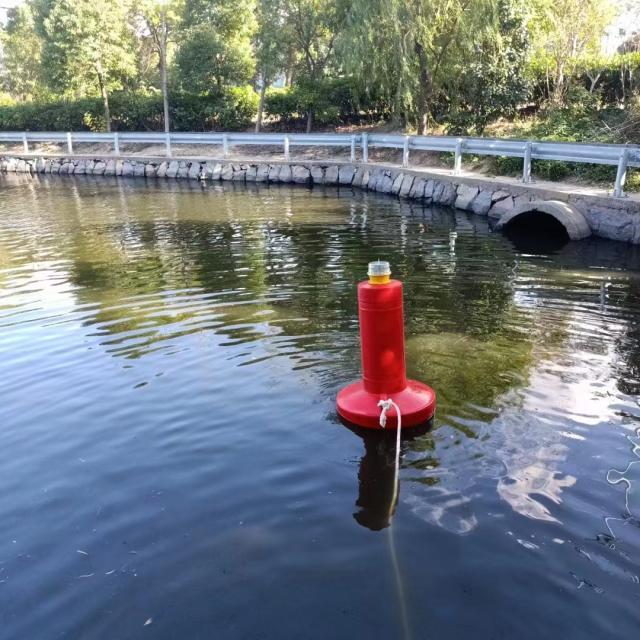buoy: (331, 250, 436, 424)
